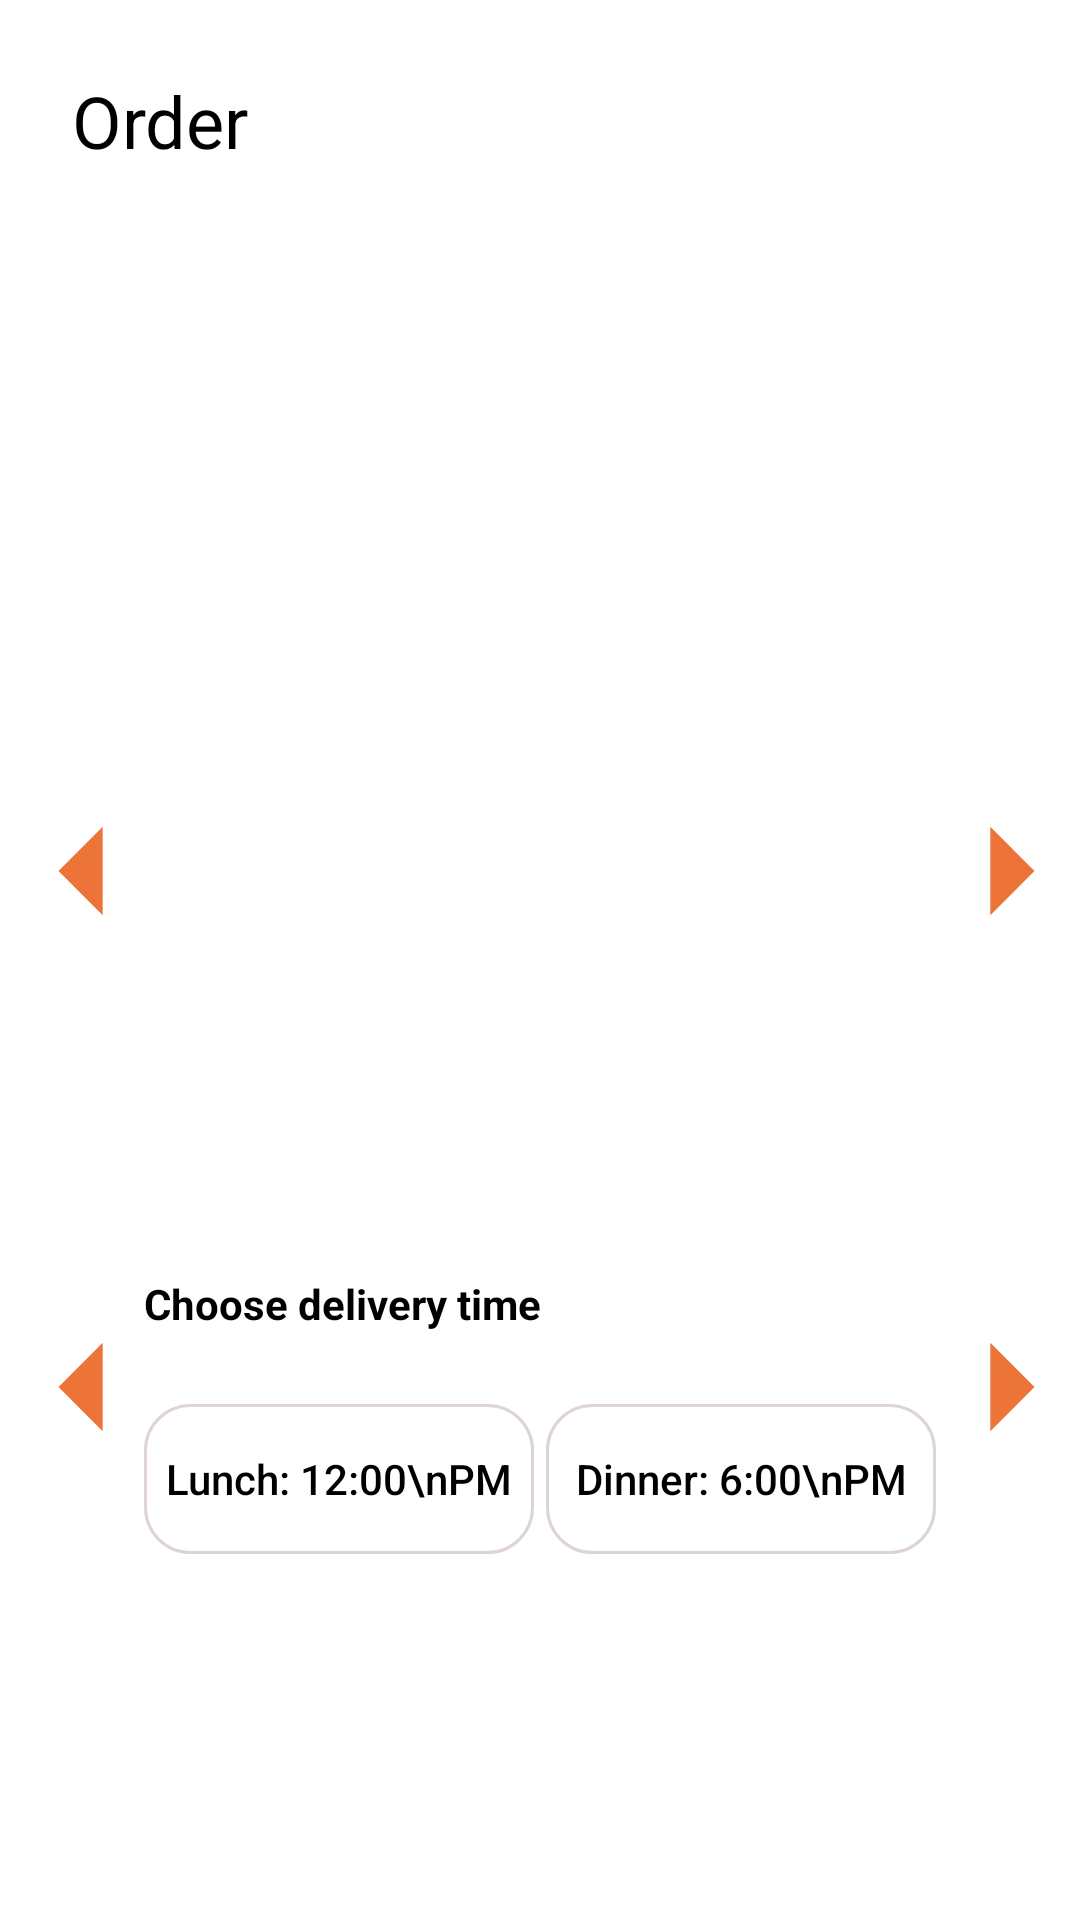

Point at icon controls on the screen. Image size 1080px×1920px, points as [x,y].
arrow left: [81,871], [81,1387]
